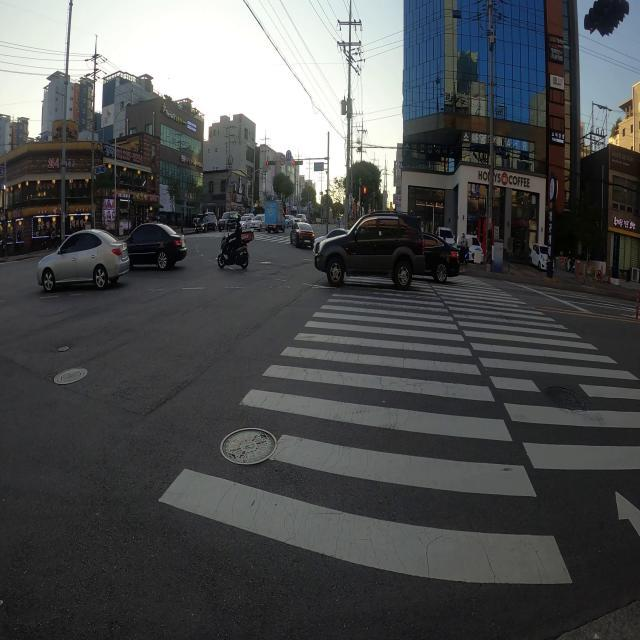crosswalk: (147, 277, 638, 595), (183, 230, 320, 248)
